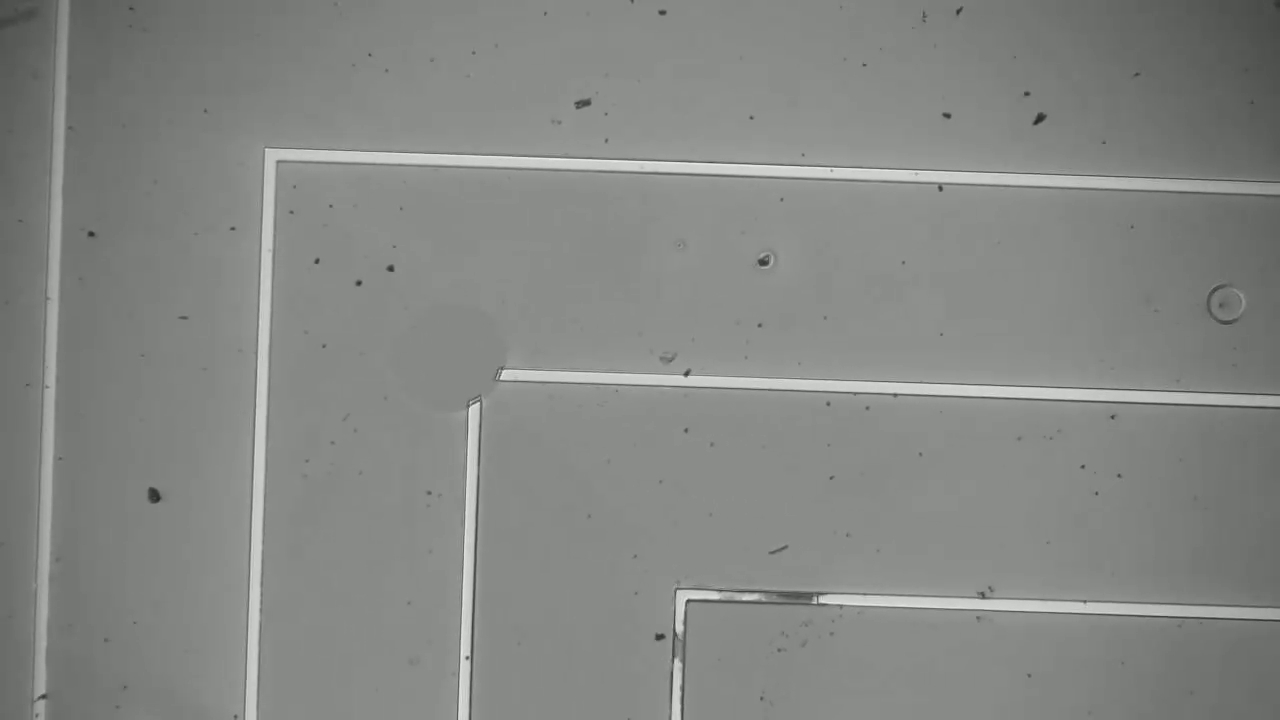gray_line: (737, 577, 840, 619), (666, 614, 694, 682)
open: (442, 336, 530, 437)
stains_enbedded: (23, 677, 63, 708)
